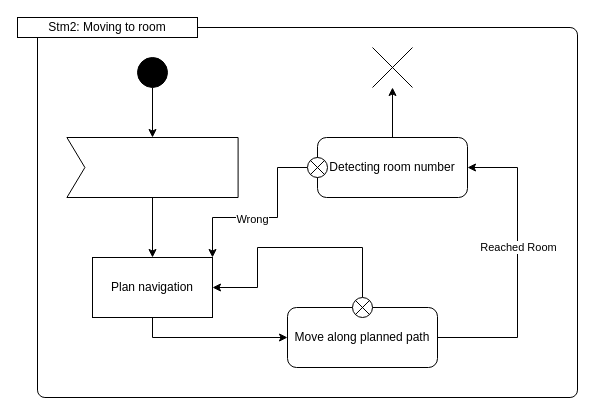
This 595x415 diagram has some shape labels left out. The shapes that lost their labels are listed below. From the top down, each one's centre as x and y in pixels, then its label:
At (x=152, y=167): "Receive room number".
At (x=362, y=307): "Obstacle detected".
